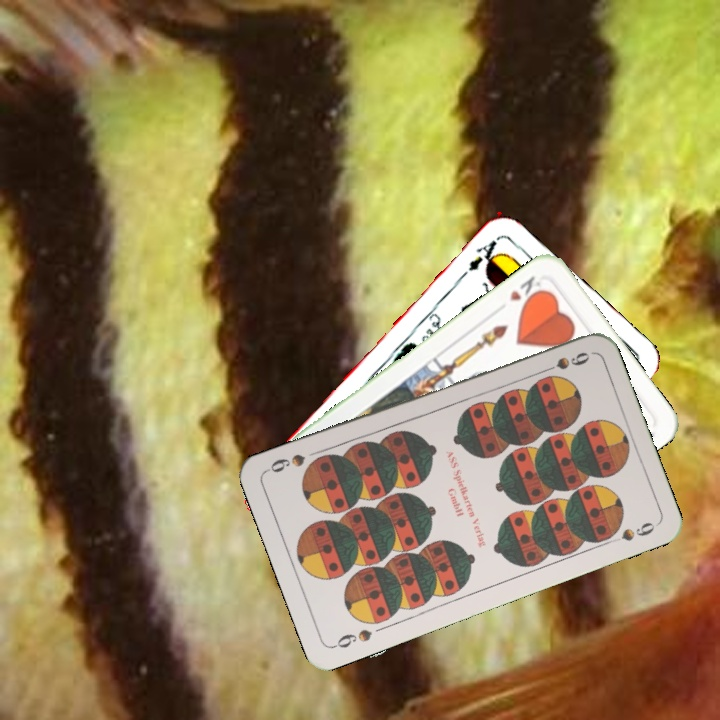EA: (455, 234, 503, 282)
HK: (505, 271, 546, 309)
S9: (535, 348, 593, 377), (329, 625, 375, 651)
